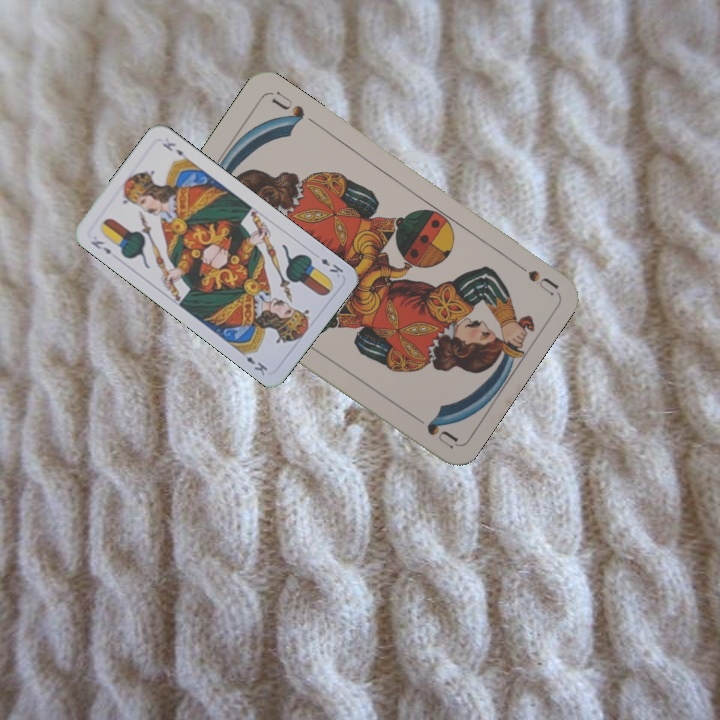EK: (316, 254, 346, 280), (86, 236, 114, 257)
SU: (506, 255, 560, 298)
